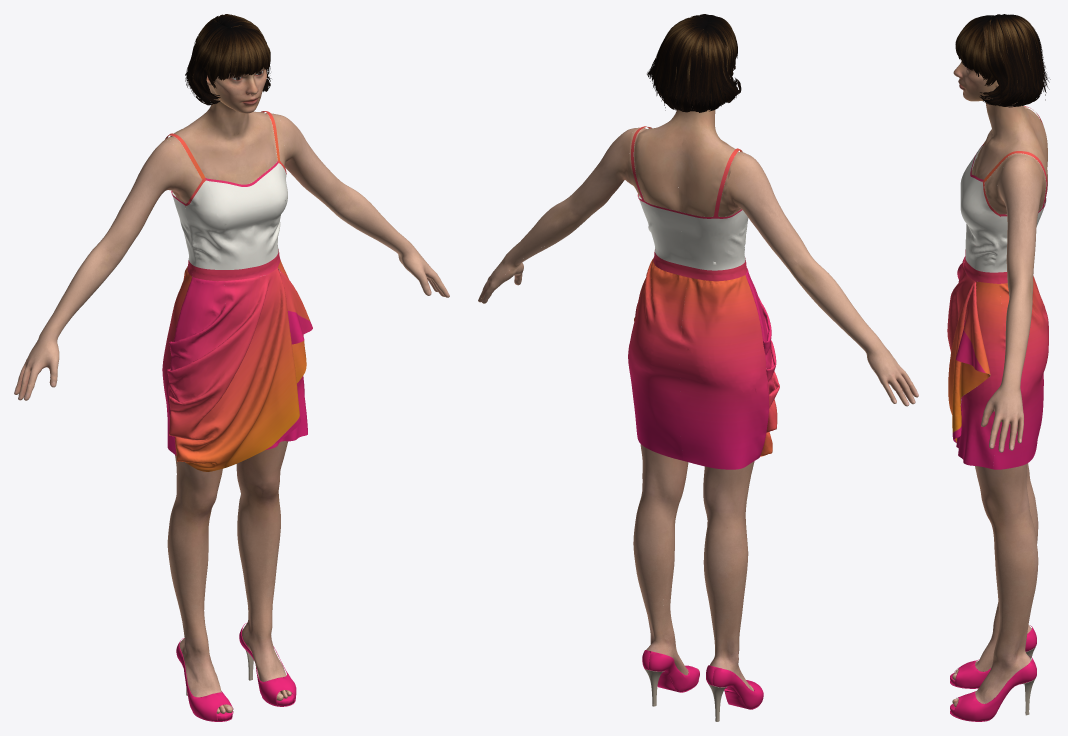
The picture shows the model from 3 angles, left to right: view 1: azimuth 30°, elevation 25°; view 2: azimuth 150°, elevation 25°; view 3: azimuth 270°, elevation 25°; orthographic projection.
Visible parts, largest first — view 1: Avatar, Cloth; view 2: Avatar, Cloth; view 3: Avatar, Cloth.
Part boxes in pixels (x1=…): Avatar: x1=14, y1=14, x2=449, y2=721; Cloth: x1=162, y1=111, x2=312, y2=471; Avatar: x1=478, y1=14, x2=918, y2=721; Cloth: x1=628, y1=126, x2=779, y2=469; Avatar: x1=950, y1=14, x2=1050, y2=721; Cloth: x1=947, y1=106, x2=1048, y2=469.
Bounding box in the file's own units: 1.11 × 1.68 × 0.2366.
18 materials, 16 textured.
